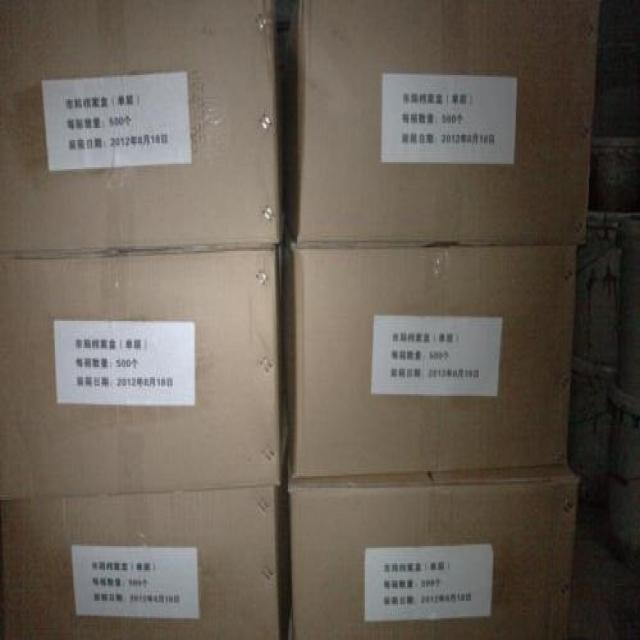box: (284, 4, 598, 244), (1, 3, 286, 259), (281, 235, 578, 479), (285, 453, 576, 638), (1, 487, 286, 638)
